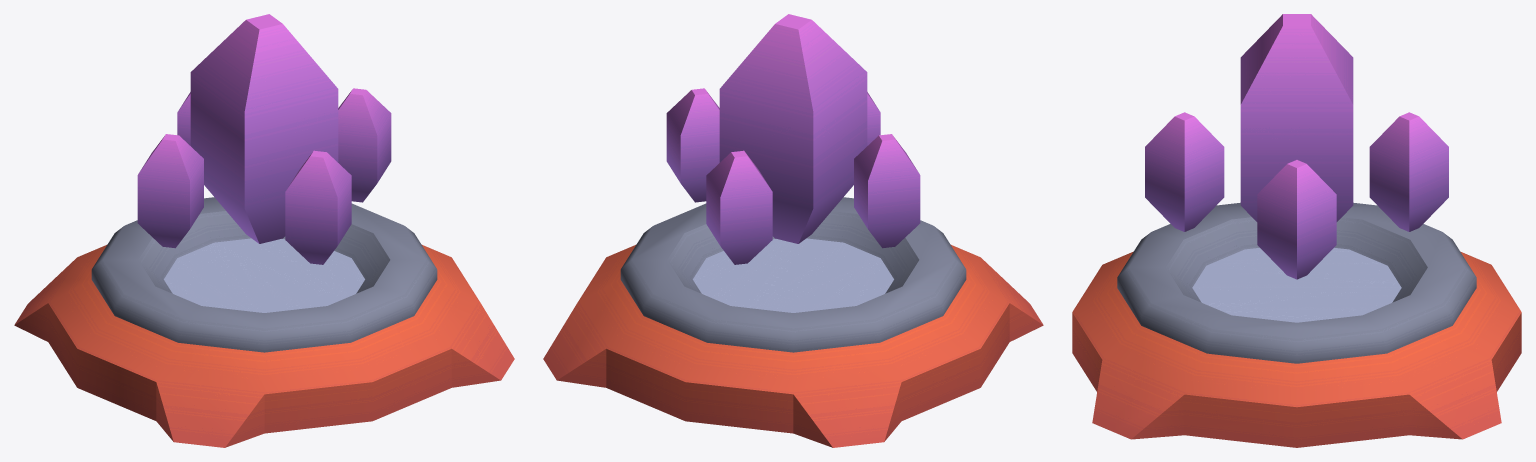
File: tower-round-crystals.glb
3 renders of one model, left to right at view 1: azimuth 30°, elevation 25°; view 2: azimuth 150°, elevation 25°; view 3: azimuth 270°, elevation 25°, orthographic. The views are drawn at different scales.
Visible parts, largest first — view 1: tower-round-crystals, crystal, crystal-small.002, crystal-small.003, crystal-small.001, crystal-small; view 2: tower-round-crystals, crystal, crystal-small, crystal-small.003, crystal-small.001, crystal-small.002; view 3: tower-round-crystals, crystal, crystal-small.001, crystal-small, crystal-small.002.
Part boxes in pixels (bbox=[...]): tower-round-crystals: bbox=[14, 197, 514, 447]; crystal: bbox=[190, 14, 338, 243]; crystal-small.002: bbox=[285, 150, 351, 264]; crystal-small.003: bbox=[137, 134, 203, 248]; crystal-small.001: bbox=[338, 88, 391, 202]; crystal-small: bbox=[177, 92, 190, 145]; tower-round-crystals: bbox=[543, 197, 1043, 447]; crystal: bbox=[719, 14, 867, 243]; crystal-small: bbox=[706, 150, 772, 264]; crystal-small.003: bbox=[854, 134, 920, 248]; crystal-small.001: bbox=[666, 88, 719, 202]; crystal-small.002: bbox=[867, 92, 880, 145]; tower-round-crystals: bbox=[1072, 202, 1521, 447]; crystal: bbox=[1240, 14, 1353, 221]; crystal-small.001: bbox=[1257, 160, 1336, 279]; crystal-small: bbox=[1369, 112, 1448, 231]; crystal-small.002: bbox=[1145, 112, 1224, 231].
Bounding box in the file's own units: 1 × 0.8175 × 1.
1 material, 1 textured.
